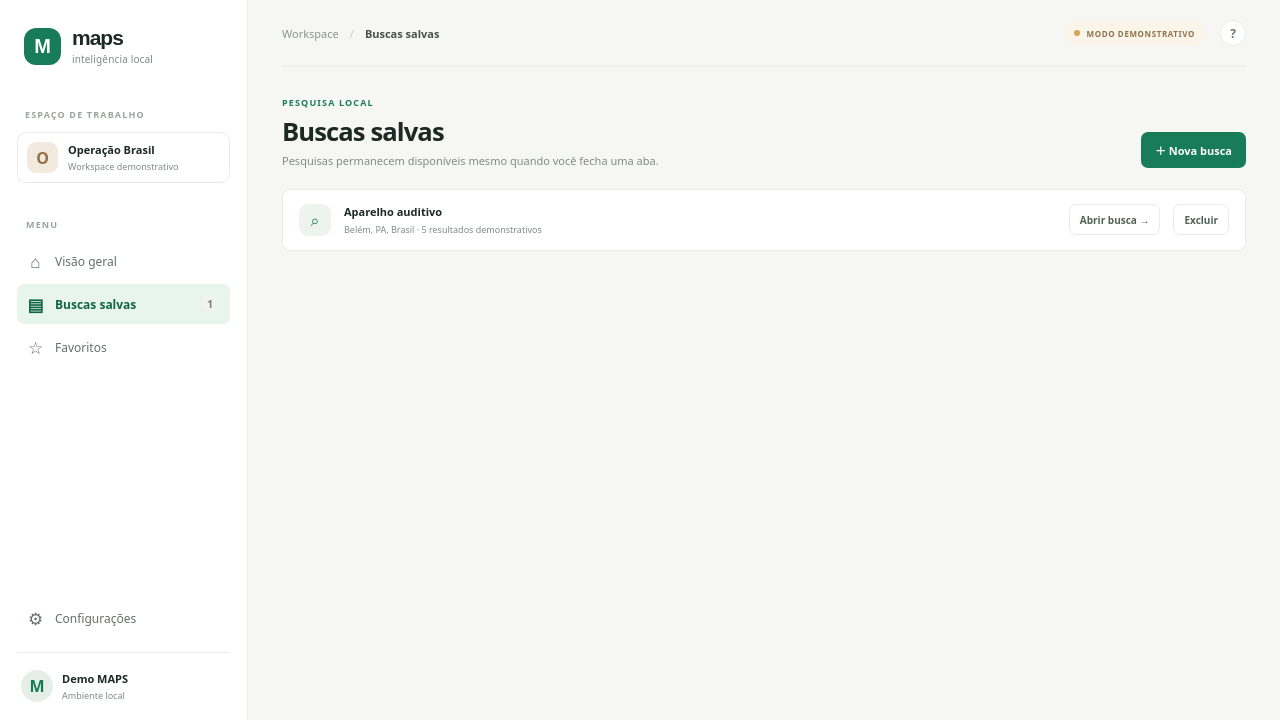
a failed deletion retains the confirmation and the saved search for retry
The width and height of the screenshot is (1280, 720).
Click the button with aria-label "Excluir busca Aparelho auditivo": [1201, 220] box [1174,204,1229,236]
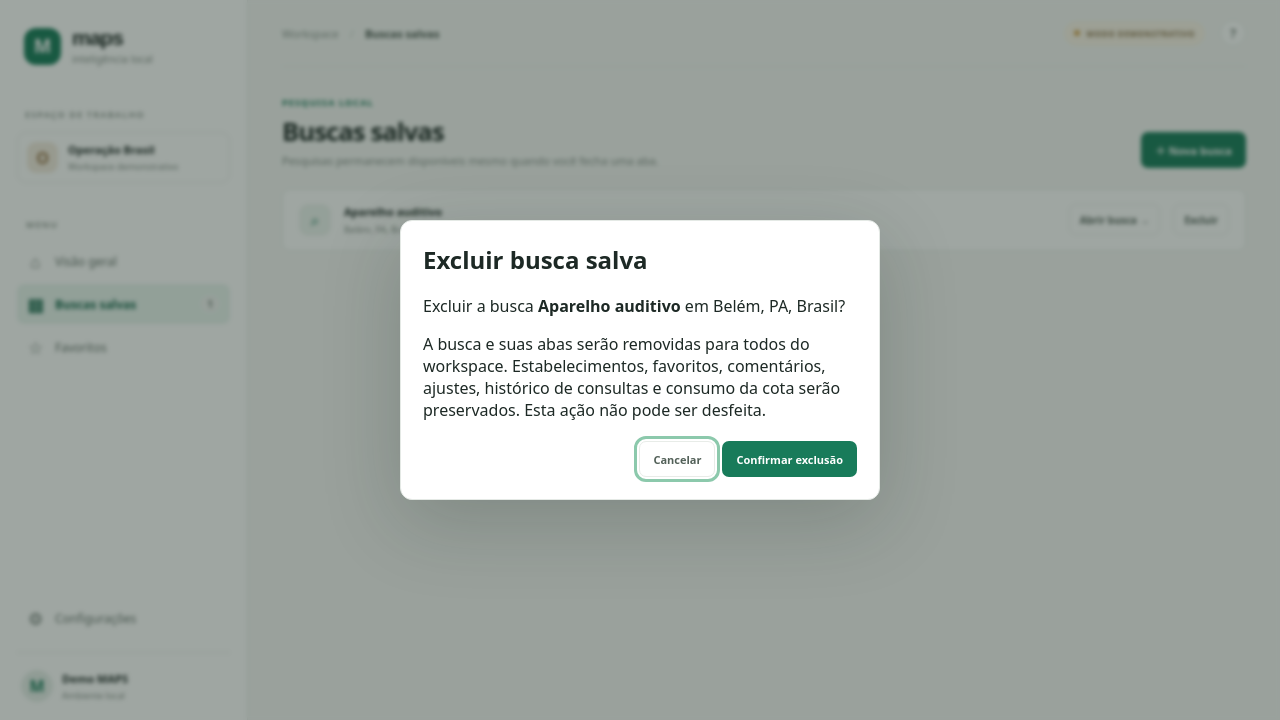
Click the button "Confirmar exclusão": [790, 460] box [722,442,857,478]
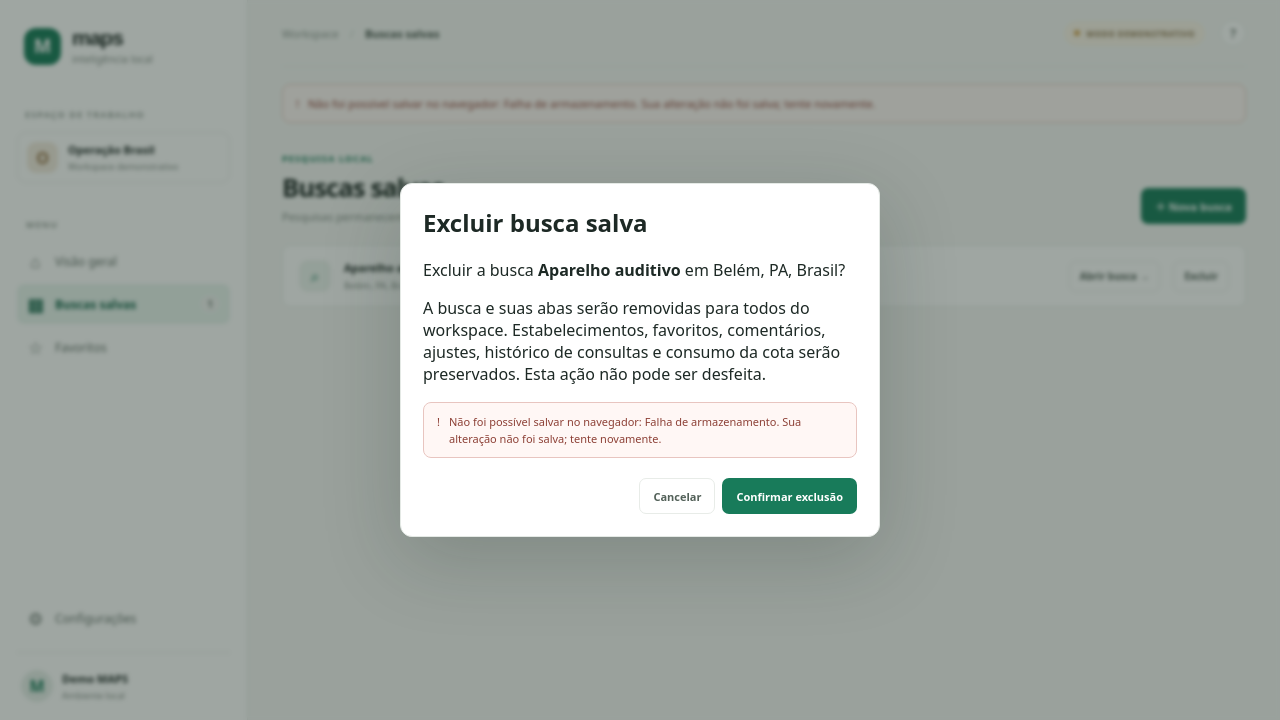
expect the message shows "Falha de armazenamento": met, box [449,414,801,446]
Click the button "Confirmar exclusão": [790, 496] box [722,478,857,514]
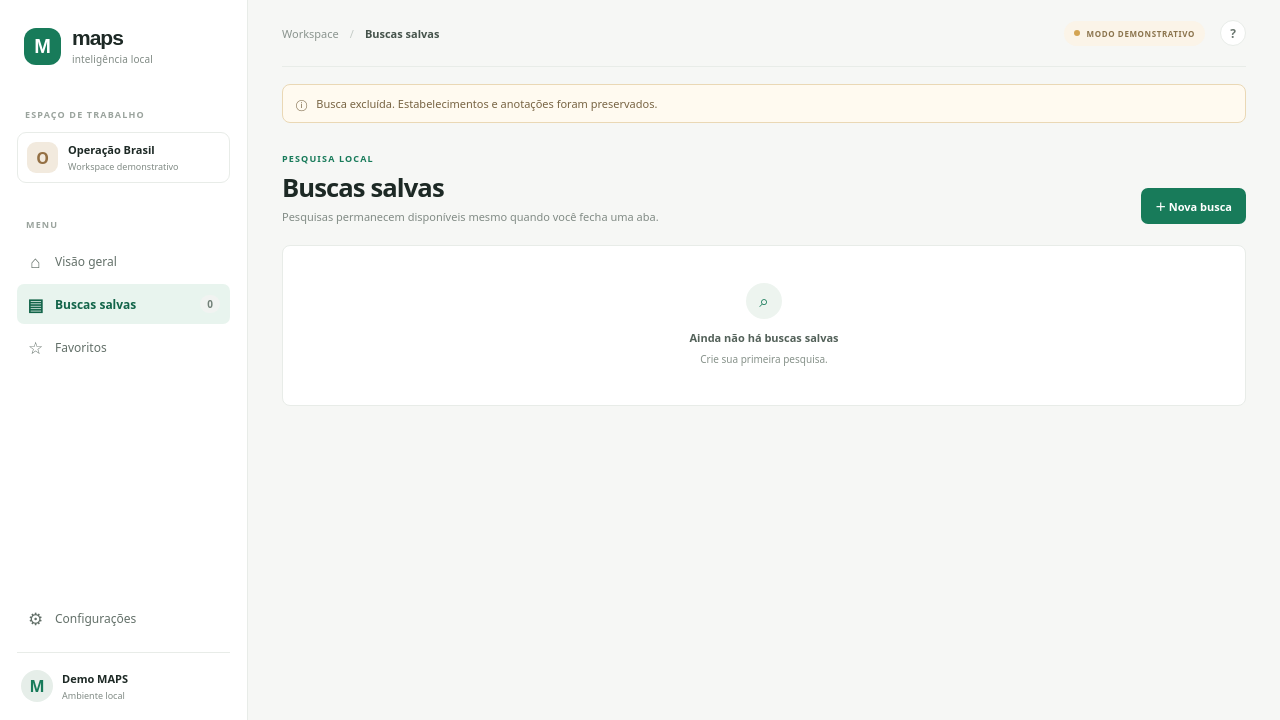
expect the text "Ainda não há buscas salvas" is shown: met, box [690,330,838,345]
